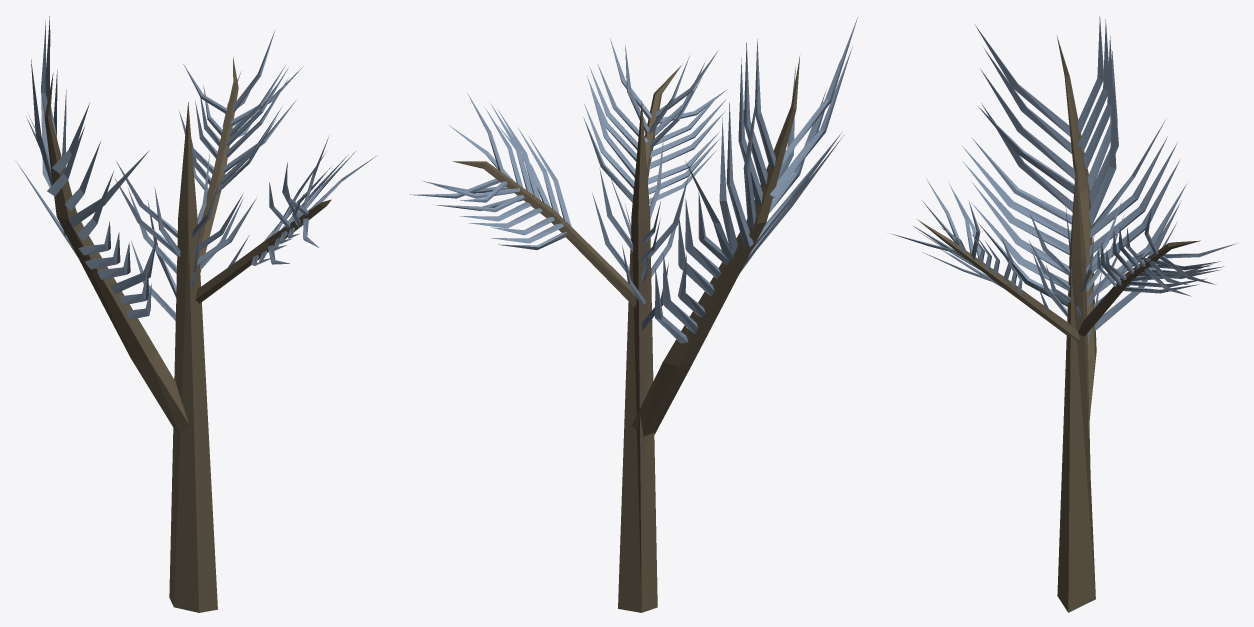
Rendered from Blue_Spruce_2_3.fbx.
The picture shows the model from 3 angles, left to right: view 1: azimuth 30°, elevation 25°; view 2: azimuth 150°, elevation 25°; view 3: azimuth 270°, elevation 25°; orthographic projection. The views are drawn at different scales.
Visible parts, largest first — view 1: Spurce_2_3; view 2: Spurce_2_3; view 3: Spurce_2_3.
Part boxes in pixels (x1,y1,x2,y2): Spurce_2_3: [15, 16, 377, 612]; Spurce_2_3: [409, 16, 858, 612]; Spurce_2_3: [891, 16, 1236, 612].
Bounding box in the file's own units: 100 × 189 × 113.
